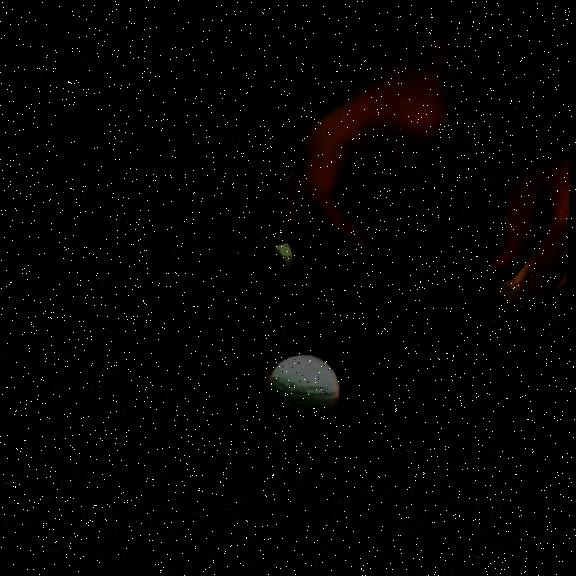ClubHead: (225, 360, 449, 440)
GolfBall: (263, 344, 348, 427)
